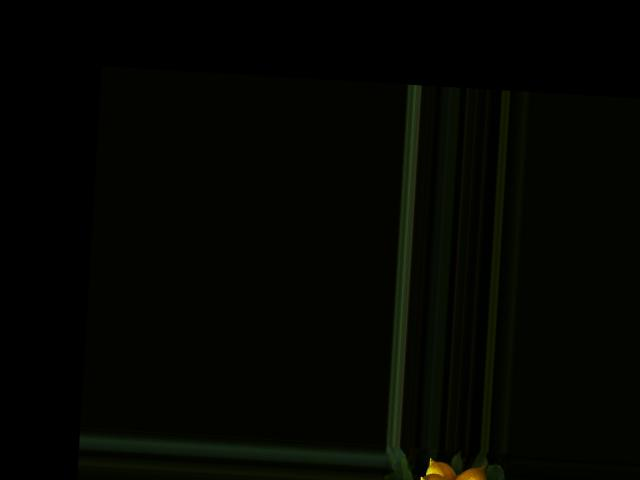lemon: (417, 451, 461, 480)
